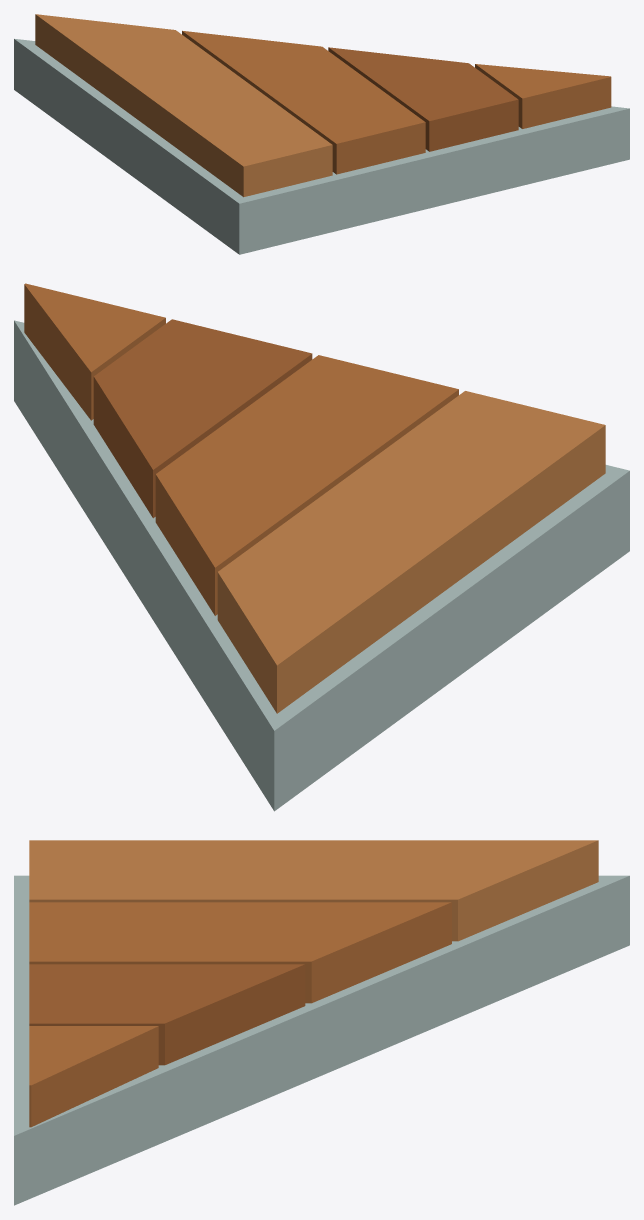
The model's file is floor_triangle_1m.glb.
3 renders of one model, top to bottom at view 1: azimuth 30°, elevation 25°; view 2: azimuth 150°, elevation 25°; view 3: azimuth 270°, elevation 25°, orthographic. The views are drawn at different scales.
Parts seen in each view (by area): view 1: SM_Floor_Triangle_1m; view 2: SM_Floor_Triangle_1m; view 3: SM_Floor_Triangle_1m.
Boxes of the visible parts, bbox=[...] form: SM_Floor_Triangle_1m: bbox=[14, 14, 629, 254]; SM_Floor_Triangle_1m: bbox=[14, 283, 629, 811]; SM_Floor_Triangle_1m: bbox=[14, 840, 629, 1205].
Size of the model in its own units: 1 by 0.2 by 1.
